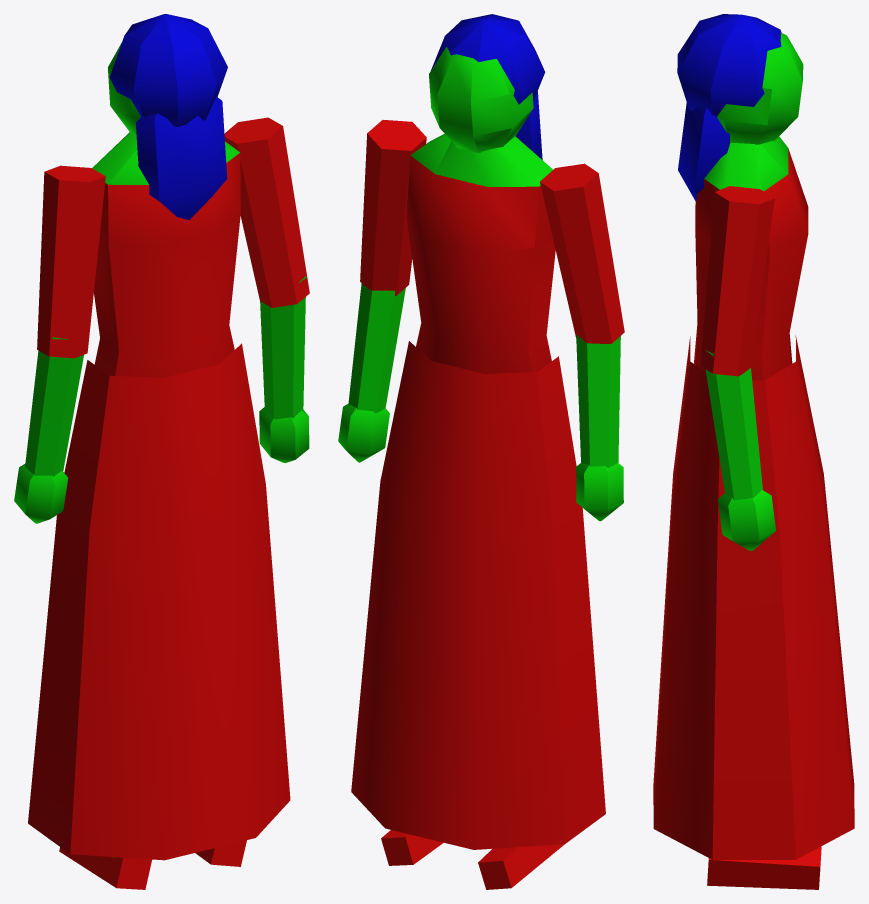
The model's file is stand_idle_f.glb.
3 views of the same model, side by side, from view 1: azimuth 30°, elevation 25°; view 2: azimuth 150°, elevation 25°; view 3: azimuth 270°, elevation 25° (orthographic). The views are drawn at different scales.
Parts seen in each view (by area): view 1: OUT; view 2: OUT; view 3: OUT.
Boxes of the visible parts, left/top/right/bottom form: OUT: left=14, top=14, right=309, bottom=889; OUT: left=338, top=14, right=624, bottom=889; OUT: left=653, top=14, right=854, bottom=889.
Size of the model in its own units: 0.5946 by 1.72 by 0.37.
